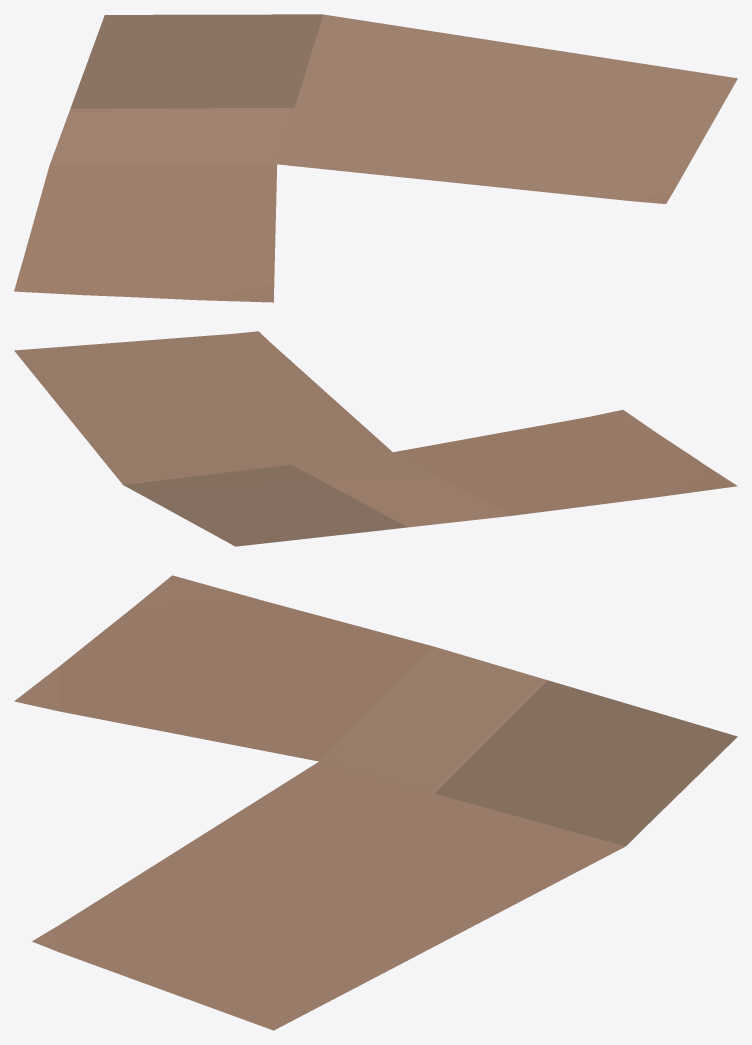
File: farm_-52_-49_soil.glb
3 views of the same model, one above another, from view 1: azimuth 30°, elevation 25°; view 2: azimuth 150°, elevation 25°; view 3: azimuth 270°, elevation 25° (orthographic). The views are drawn at different scales.
Visible parts, largest first — view 1: geometry_0; view 2: geometry_0; view 3: geometry_0.
Part boxes in pixels (x1,y1,x2,y2): geometry_0: (14, 14, 737, 302); geometry_0: (14, 331, 737, 546); geometry_0: (14, 575, 737, 1030).
Size of the model in its own units: 94.39 by 4.67 by 64.21.
